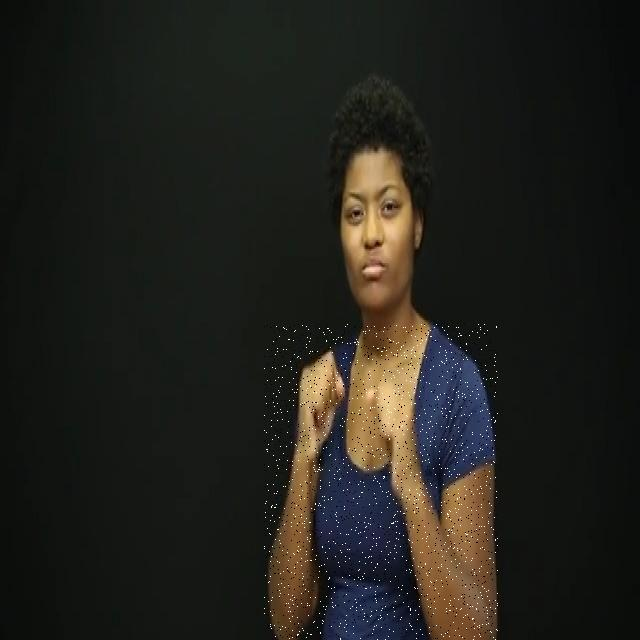cold: (264, 324, 498, 640)
